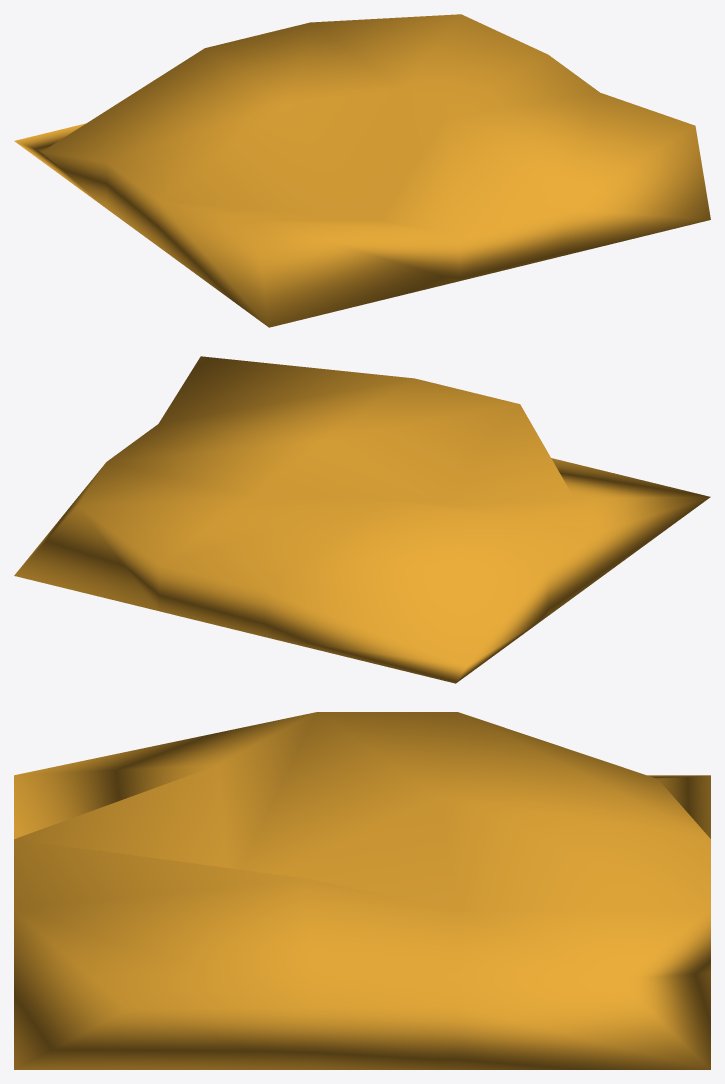
The model's file is patch_honey.glb.
3 renders of one model, top to bottom at view 1: azimuth 30°, elevation 25°; view 2: azimuth 150°, elevation 25°; view 3: azimuth 270°, elevation 25°, orthographic. The views are drawn at different scales.
Parts seen in each view (by area): view 1: 立方体; view 2: 立方体; view 3: 立方体.
Part boxes in pixels (box(x1,y1,x2,y2)): 立方体: box(14, 14, 710, 327); 立方体: box(14, 356, 710, 683); 立方体: box(14, 712, 710, 1069).
Bounding box in the file's own units: 2.12 × 0.2965 × 2.
